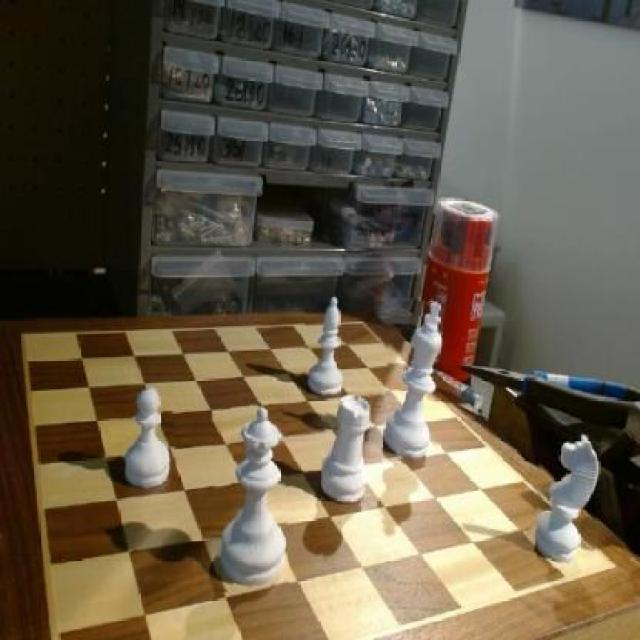black-rook: (306, 297, 346, 399)
white-bishop: (385, 300, 442, 467)
white-king: (537, 434, 600, 571)
white-knight: (120, 389, 176, 490)
white-pawn: (212, 406, 287, 592)
white-queen: (322, 394, 369, 507)
